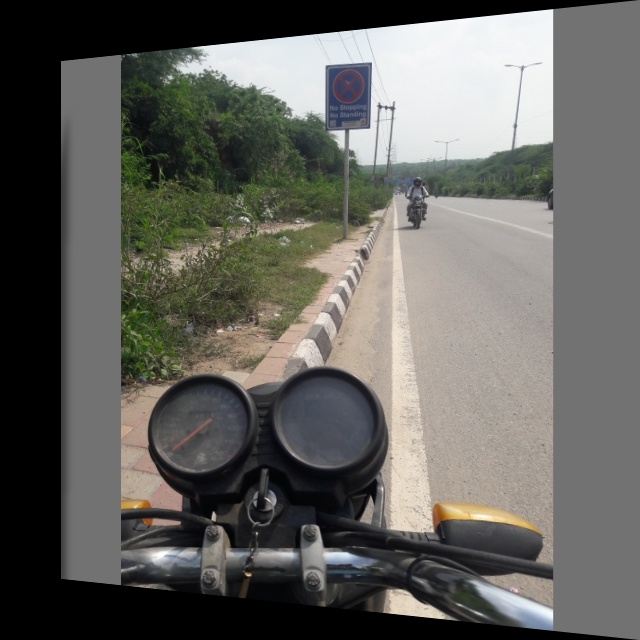No_Stopping_or_Standing: (327, 61, 373, 110)
